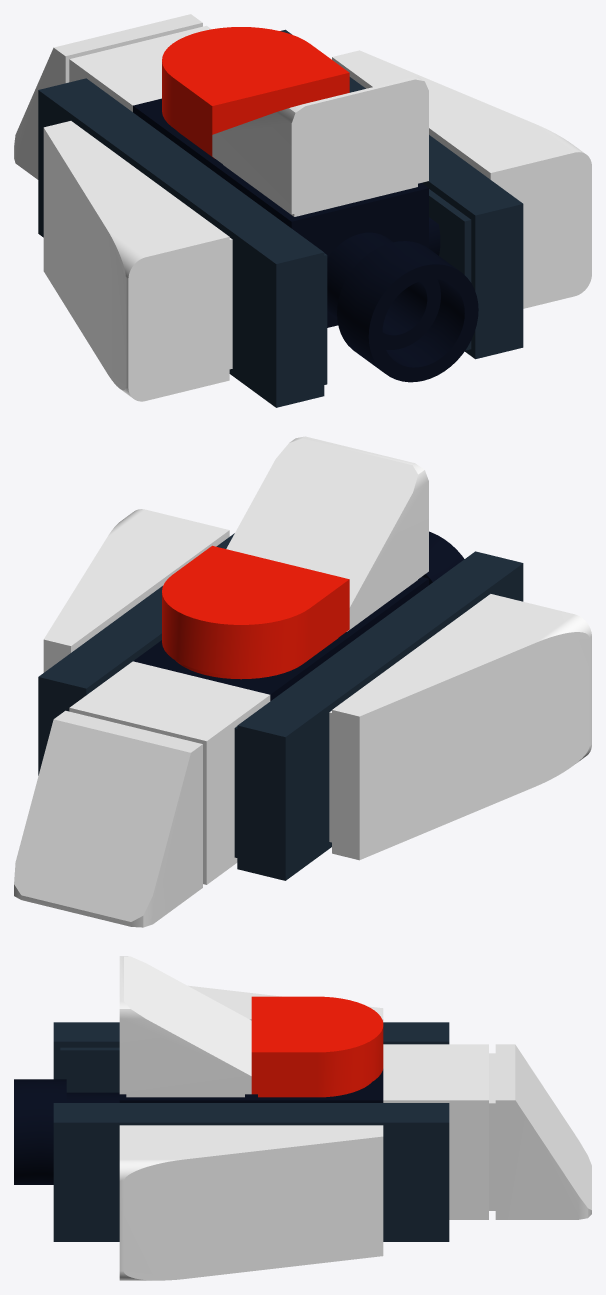
File: LegoSpaceship.obj
3 renders of one model, top to bottom at view 1: azimuth 30°, elevation 25°; view 2: azimuth 150°, elevation 25°; view 3: azimuth 270°, elevation 25°, orthographic. The views are drawn at different scales.
Bounding box in the file's own units: 67.5 × 35.6 × 87.6.
